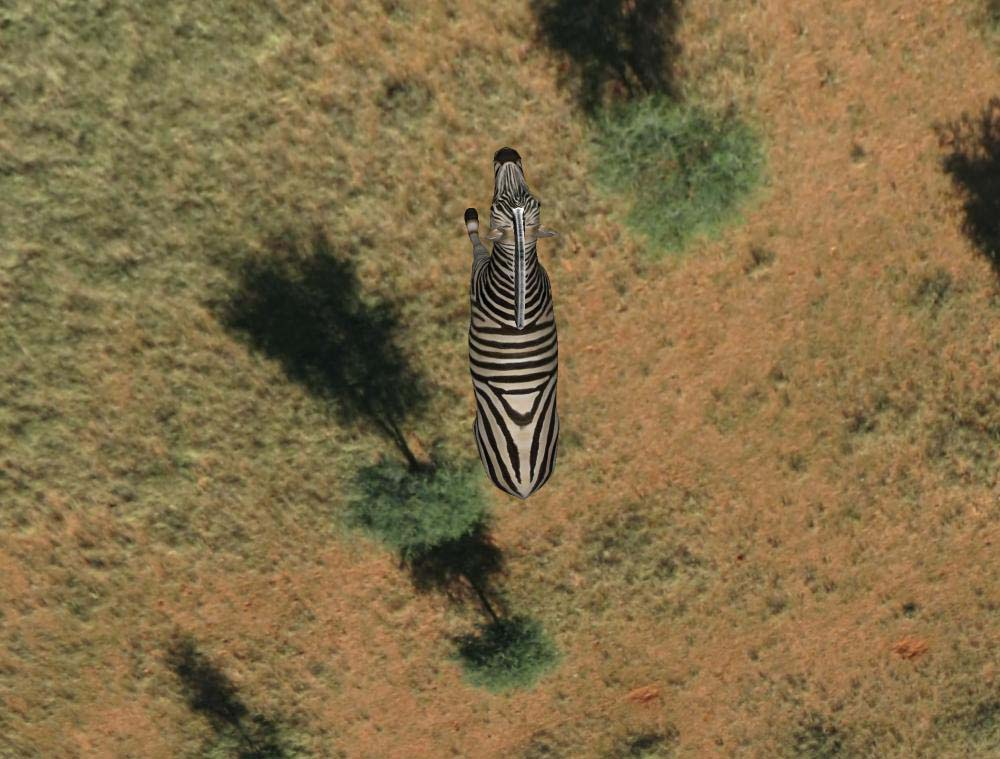zebra: (459, 140, 574, 499)
